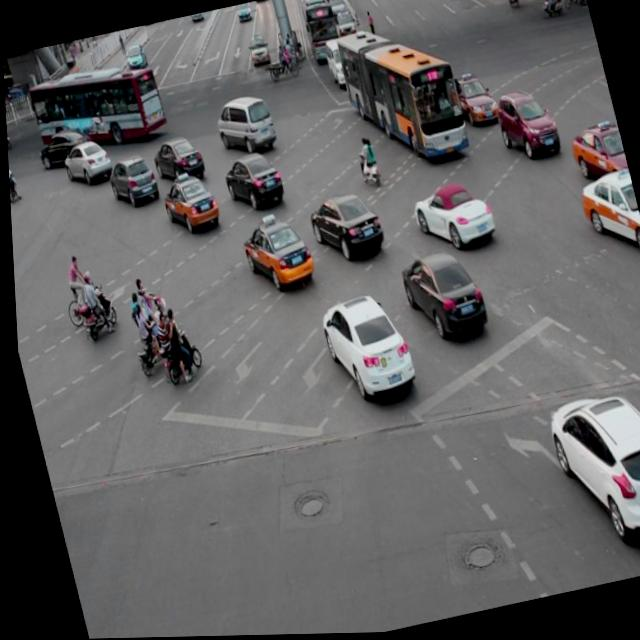car: (537, 382, 640, 548), (312, 288, 415, 405), (394, 243, 486, 346), (406, 180, 495, 257), (573, 169, 640, 267), (303, 187, 384, 266), (235, 213, 313, 294), (491, 86, 559, 166), (566, 120, 630, 193), (218, 150, 285, 214), (157, 172, 220, 238), (103, 152, 159, 211), (148, 133, 205, 188), (34, 124, 94, 172), (448, 71, 497, 129), (58, 137, 113, 188)
truck: (208, 91, 277, 158)
van: (333, 19, 468, 174), (25, 58, 168, 156)
